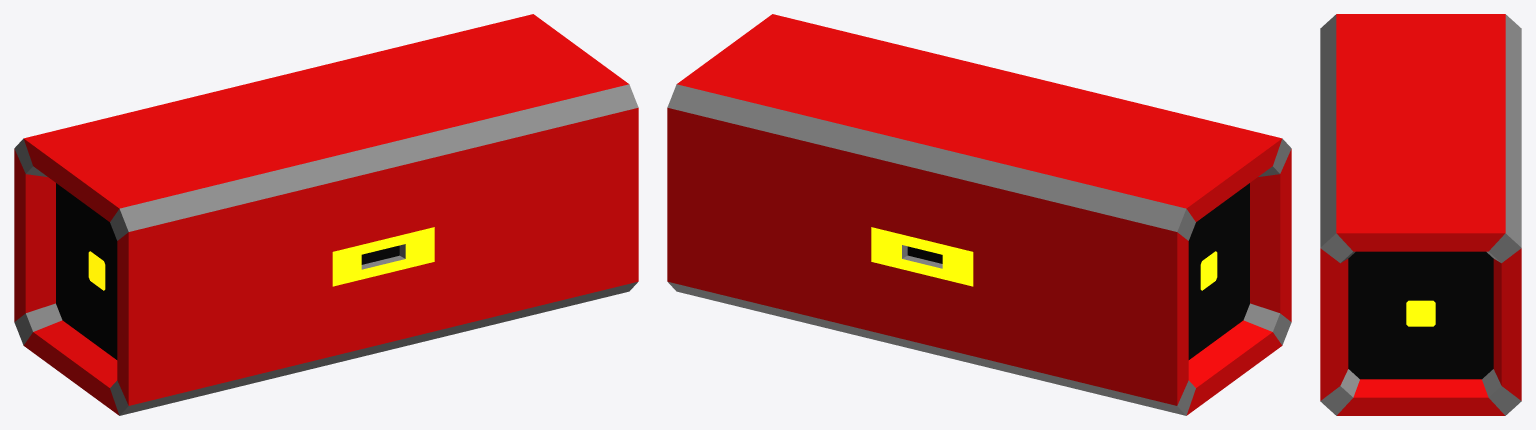
File: Connector1.fbx
The picture shows the model from 3 angles, left to right: view 1: azimuth 30°, elevation 25°; view 2: azimuth 150°, elevation 25°; view 3: azimuth 270°, elevation 25°; orthographic projection. The views are drawn at different scales.
Parts seen in each view (by area): view 1: Connector1; view 2: Connector1; view 3: Connector1.
Boxes of the visible parts, bbox=[...] form: Connector1: bbox=[14, 14, 638, 415]; Connector1: bbox=[667, 14, 1291, 415]; Connector1: bbox=[1320, 14, 1521, 415].
Bounding box in the file's own units: 9.32 × 3.62 × 3.62.
